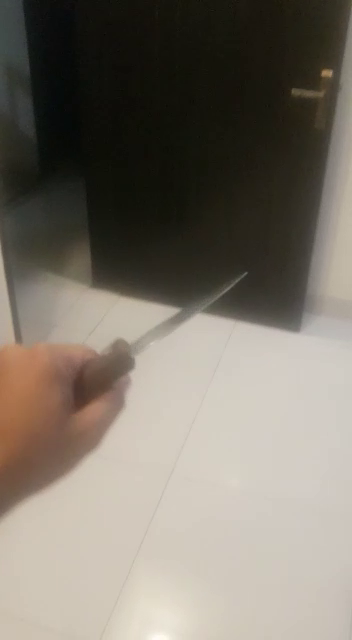knife: (23, 250, 275, 464)
